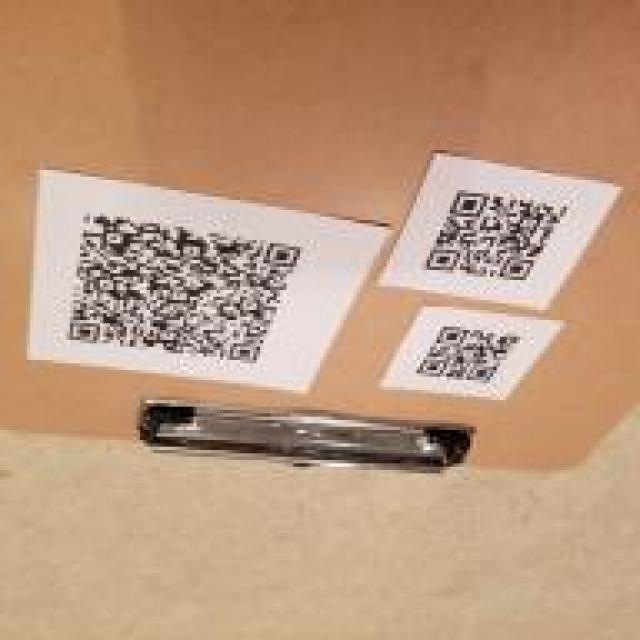qr_code: (67, 212, 303, 365), (424, 189, 570, 283), (415, 325, 521, 385)
